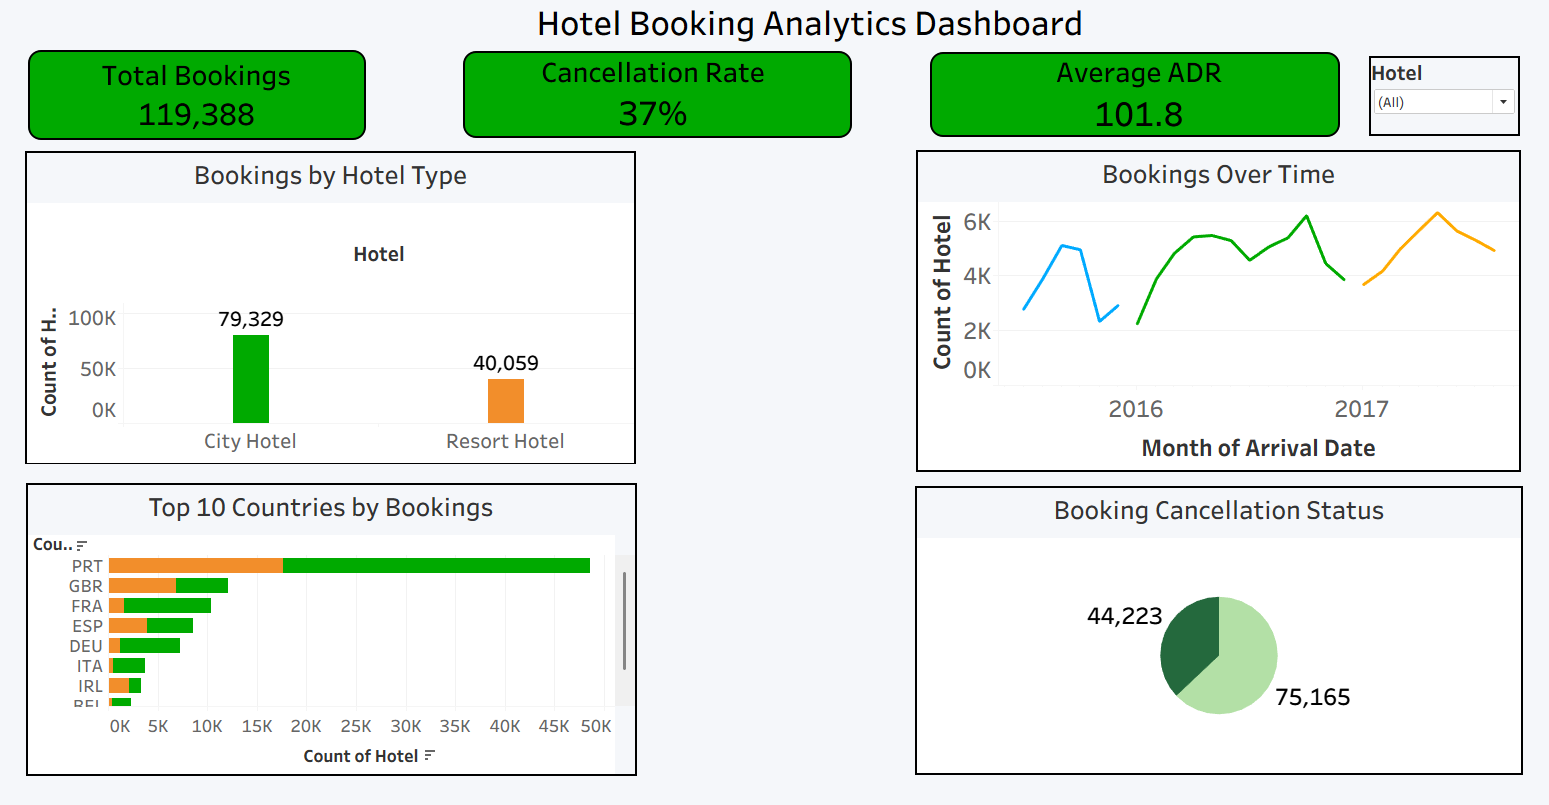

What the dashboard file says about the page in this screenshot:
{"tool":"tableau","page":{"name":"Hotel Booking Analytics Dashboard","canvas":[1000,1000],"units":"permille","ordinal":0},"visuals":[{"type":"text","box":[317.6,16.3,331.3,69.8]},{"type":"blank","box":[28.5,86.2,196.5,107.8]},{"type":"text","box":[51.7,87.4,149.4,104.2]},{"type":"blank","box":[281.4,87.4,226.2,104.2]},{"type":"text","box":[318.6,88.6,146.5,99.4]},{"type":"blank","box":[552.9,88.6,238.4,101.8]},{"type":"text","box":[604.1,88.6,140.7,100.6]},{"type":"filter","title":"Bookings by Hotel Type","param":"[federated.0uygzkb14vcwkl173cawf1n5pwq9].[none:hotel:nk]","box":[808.1,93.4,87.8,95.8]},{"type":"worksheet","title":"Bookings Over Time","mark":"Automatic","rows":["hotel"],"cols":["arrival_date"],"box":[545,205.8,351.7,386.1]},{"type":"worksheet","title":"Bookings by Hotel Type","mark":"Automatic","rows":["hotel"],"cols":["hotel"],"box":[26.9,207,355.5,375.6]},{"type":"worksheet","title":"Top 10 Countries by Bookings","mark":"Automatic","rows":["country"],"cols":["hotel"],"box":[27.5,604.6,355.5,351.2]},{"type":"worksheet","title":"Cancellation Status","mark":"Pie","box":[544.2,608.4,353.5,346.1]}]}

Visuals, with their boxes on the dashboard's canvas, which has no fixed pixel size, in thousandths of its width and height (x1, y1, x2, y2). These are canvas units, not pixel positions in the 1549x805 screenshot, which may show the page scaled, cropped or inside an application window:
text: (left=318, top=16, right=649, bottom=86)
blank: (left=28, top=86, right=225, bottom=194)
text: (left=52, top=87, right=201, bottom=192)
blank: (left=281, top=87, right=508, bottom=192)
text: (left=319, top=89, right=465, bottom=188)
blank: (left=553, top=89, right=791, bottom=190)
text: (left=604, top=89, right=745, bottom=189)
"Bookings by Hotel Type" filter: (left=808, top=93, right=896, bottom=189)
"Bookings Over Time" worksheet: (left=545, top=206, right=897, bottom=592)
"Bookings by Hotel Type" worksheet: (left=27, top=207, right=382, bottom=583)
"Top 10 Countries by Bookings" worksheet: (left=28, top=605, right=383, bottom=956)
"Cancellation Status" worksheet (Pie marks): (left=544, top=608, right=898, bottom=954)
